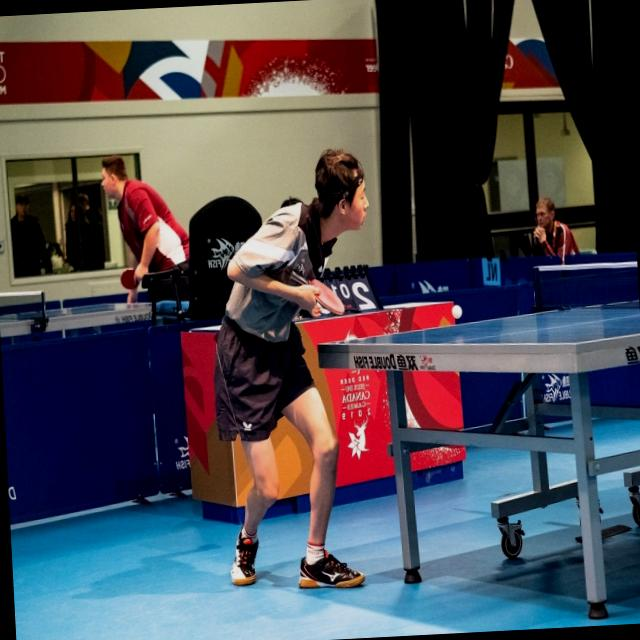TT Net: (531, 262, 640, 313), (0, 288, 48, 327)
TT Racket: (282, 261, 357, 324), (118, 267, 144, 294)
TT Table: (319, 298, 640, 383), (0, 296, 165, 327)
